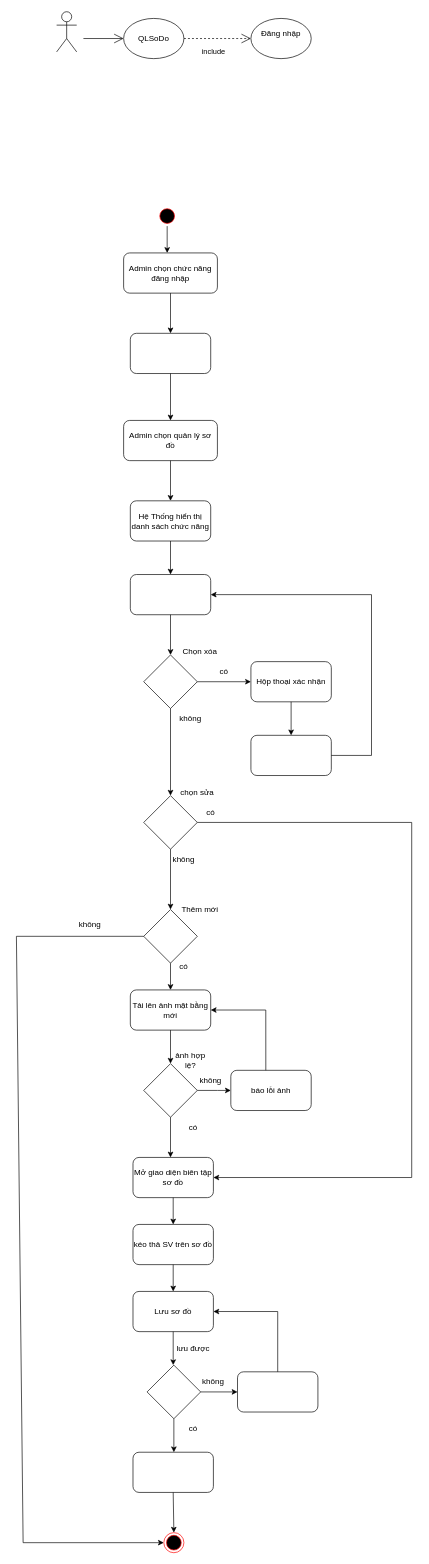
This 429x1564 diagram has some shape labels left out. Each missing label, with the box of its shape:
Admin: (56, 11, 77, 52)
báo lỗi không lưu được: (237, 1371, 318, 1412)
Chọn thao tác: (130, 574, 211, 615)
cập nhật thành công: (132, 1452, 213, 1492)
Hệ Thống chào mừng đăng nhập cùng với hiển thị chức năng: (130, 333, 211, 374)
Xóa và báo thành công: (250, 735, 331, 776)
